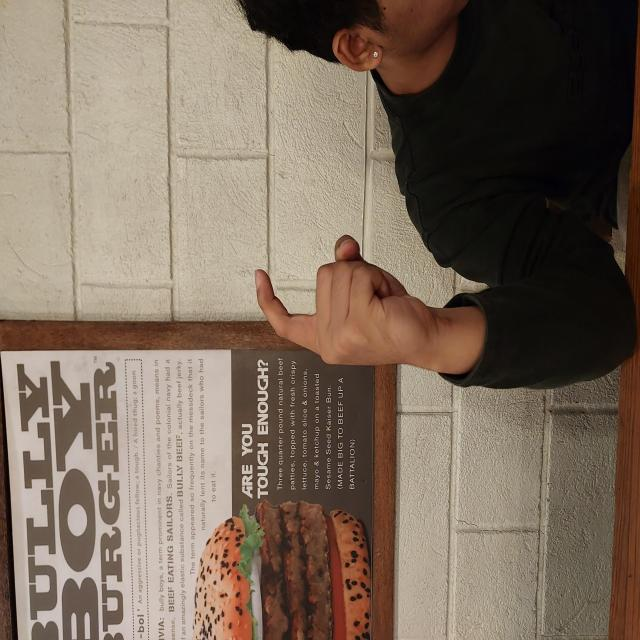X: (272, 253, 408, 437)
